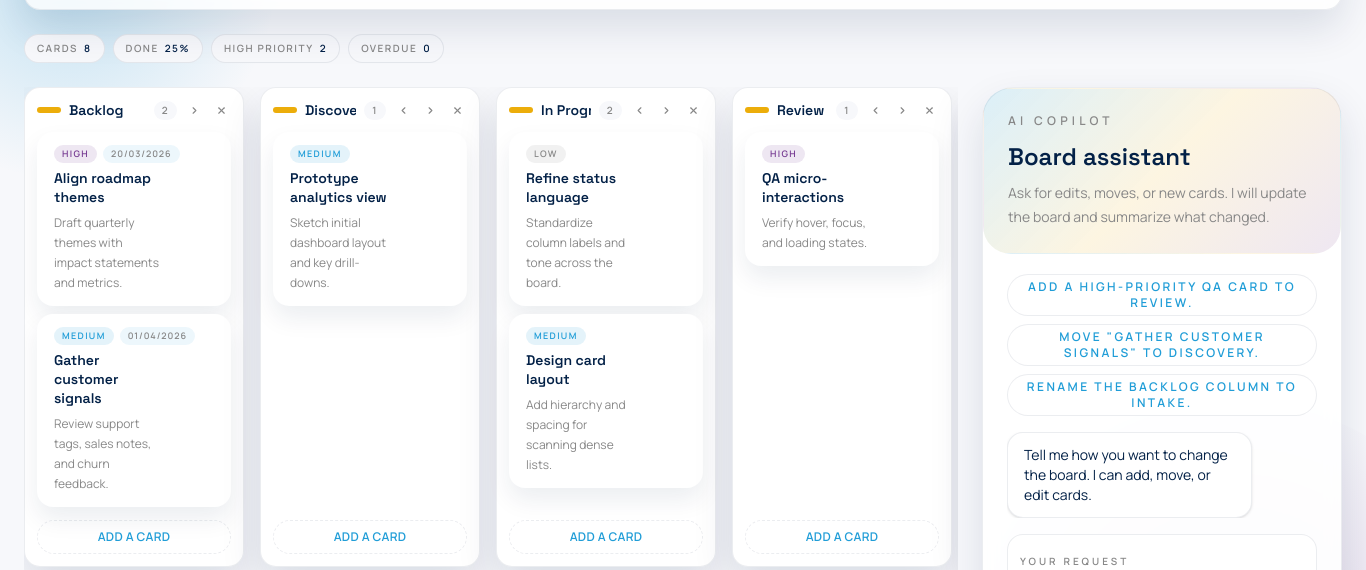
Test: KanbanBoard › adds a card with selected priority
This screenshot has width=1366, height=570.
Click the 1st button "Add a card": (134, 537) top-left (37, 520), bottom-right (231, 554)
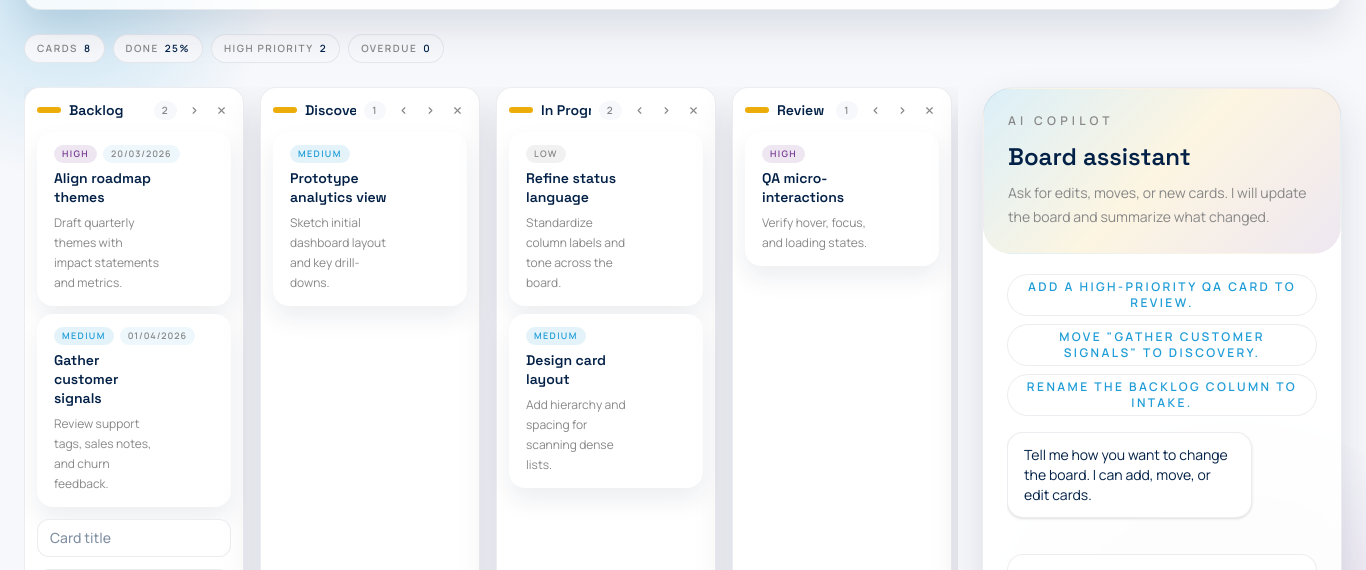
In the field with placeholder "Card title": (134, 538) top-left (37, 519), bottom-right (231, 557), type "Priority card"
(page scrolled)
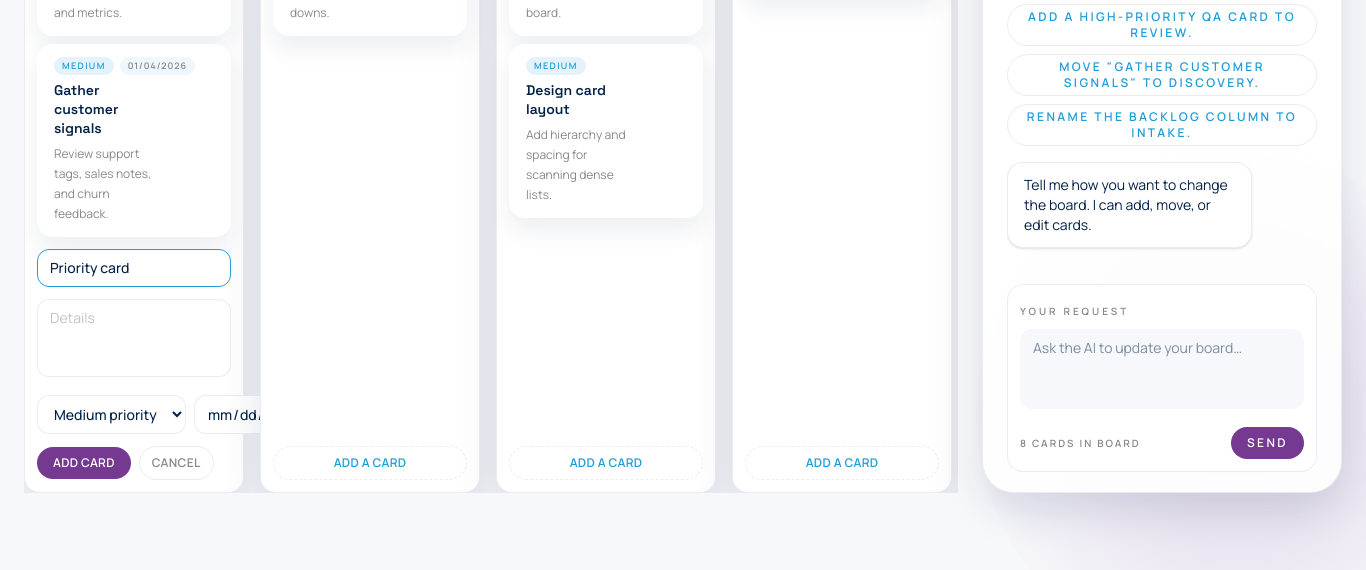
Select "High priority" in the dropdown named "priority": (112, 415) top-left (37, 395), bottom-right (186, 434)
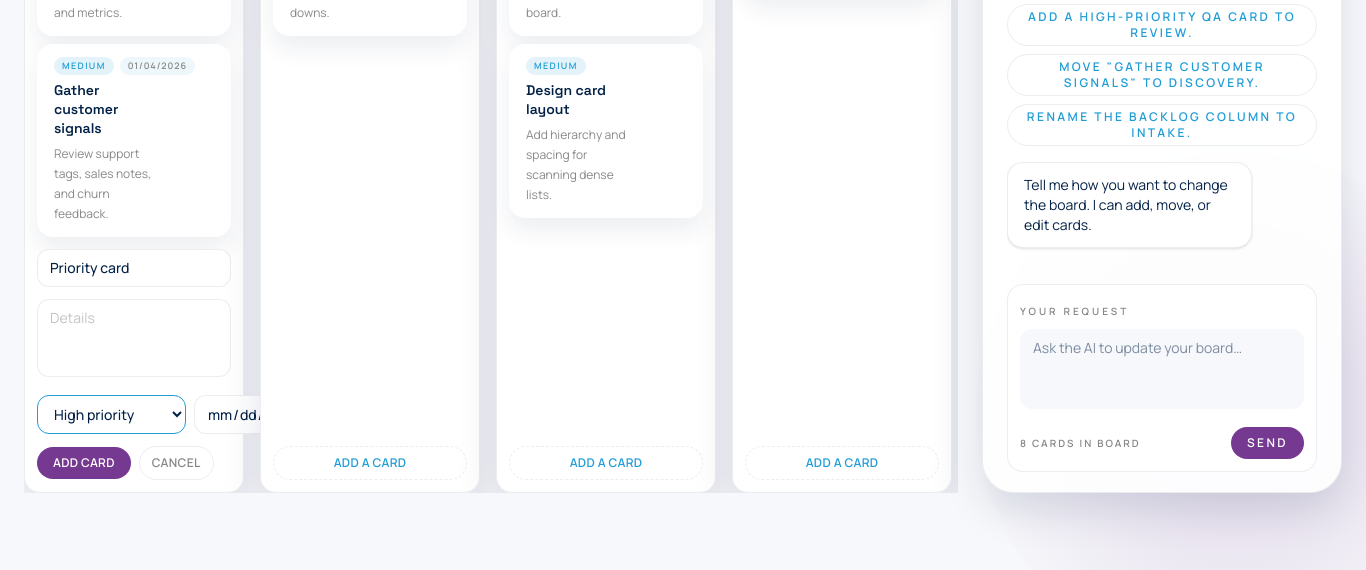
Click the button "Add card": (84, 463) top-left (37, 447), bottom-right (131, 479)
(page scrolled)
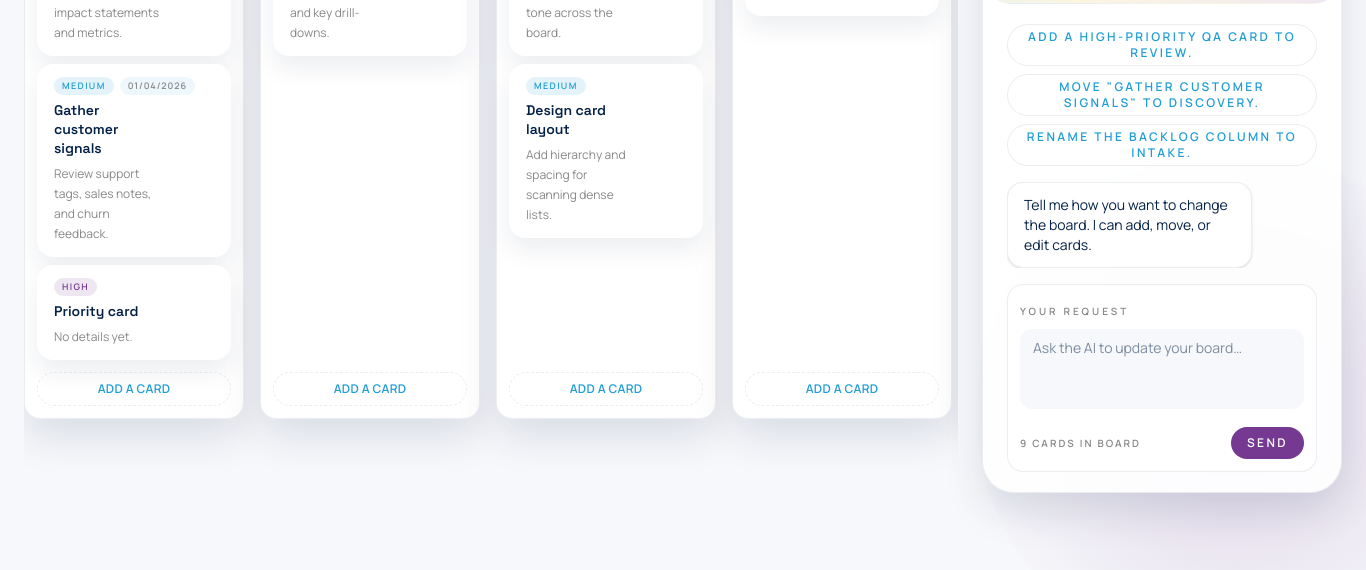
expect the heading "Priority card" is shown: met, box top-left (54, 302), bottom-right (138, 320)
